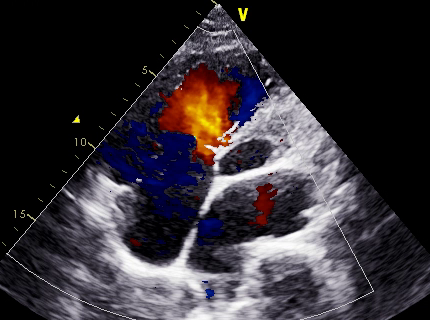TR: (121, 141, 233, 209)
